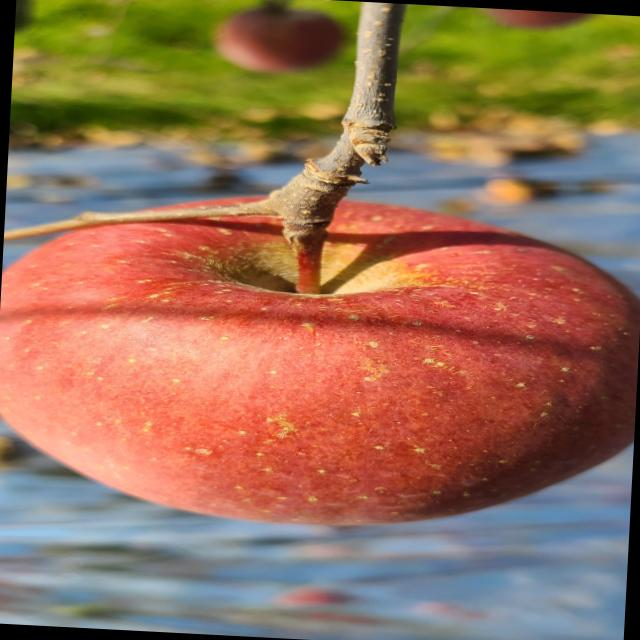fresh: (1, 172, 636, 552)
